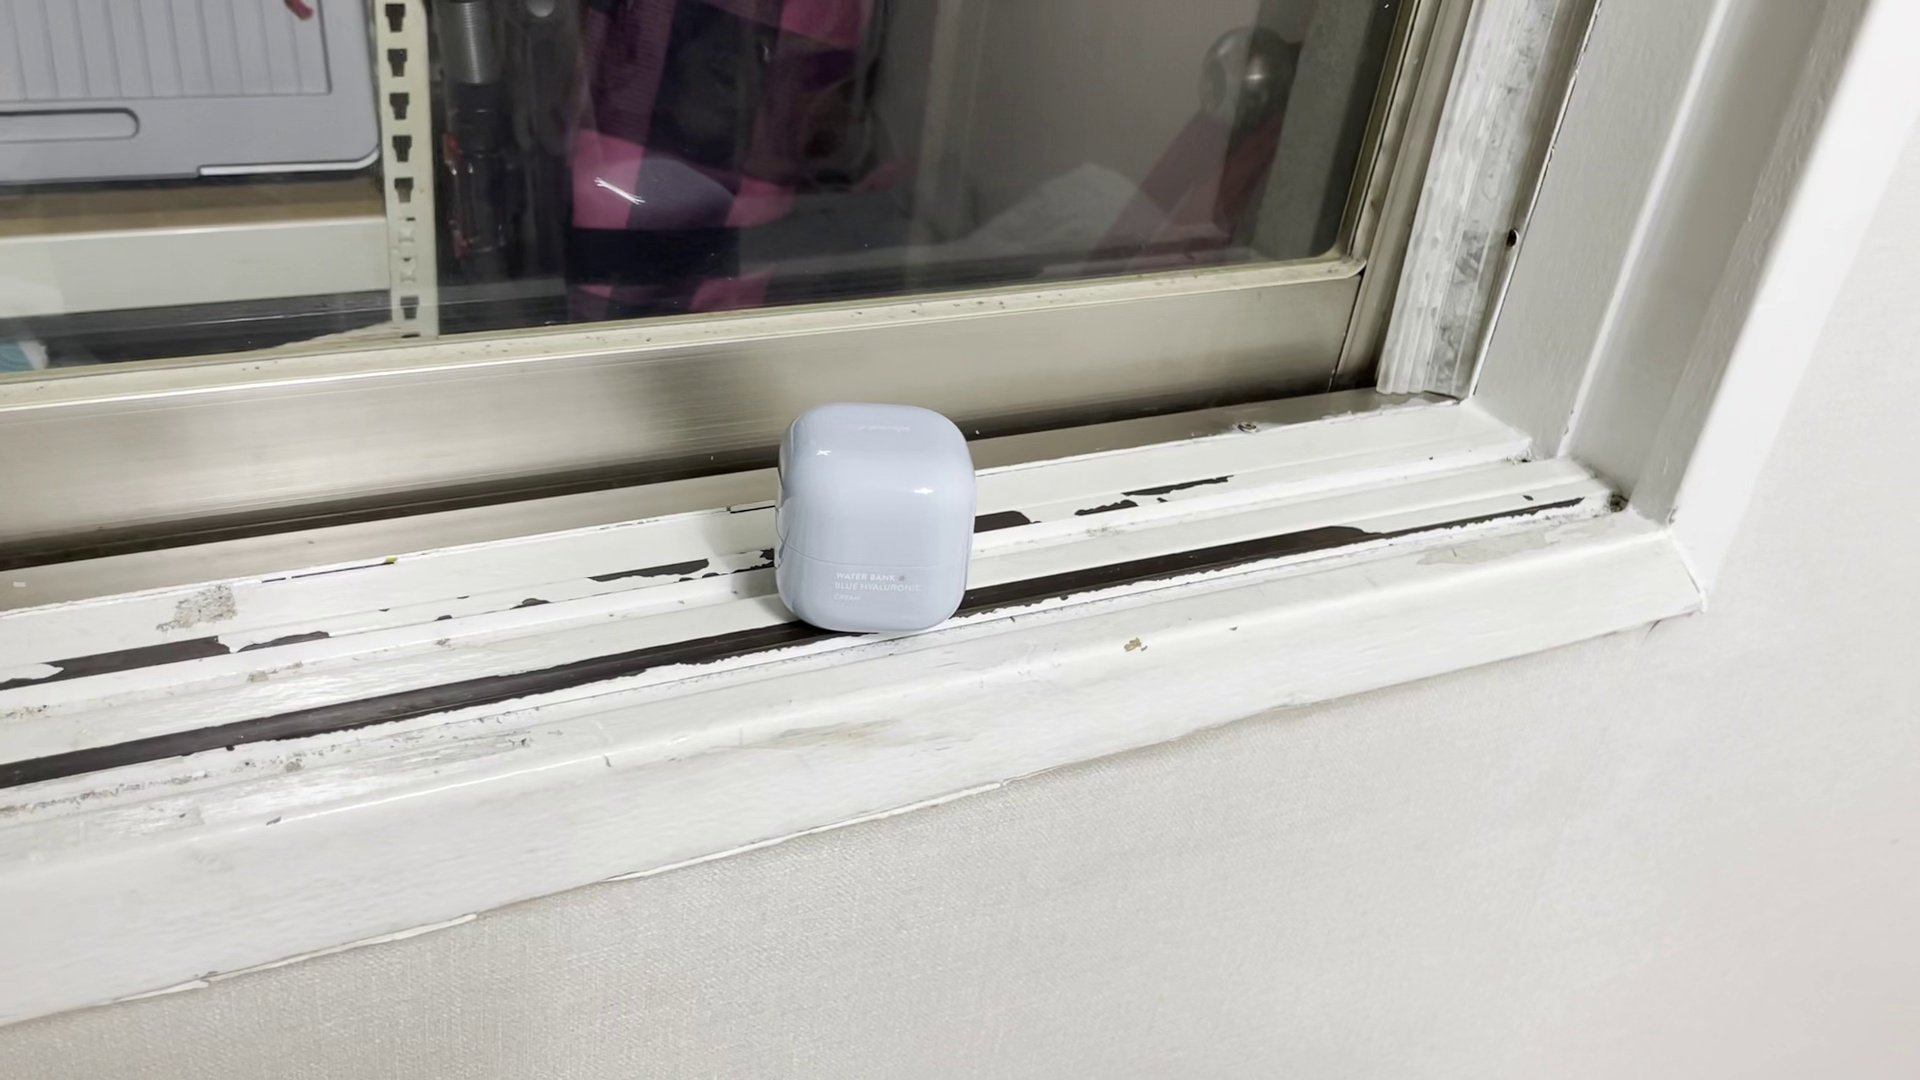cream: (775, 405, 973, 637)
